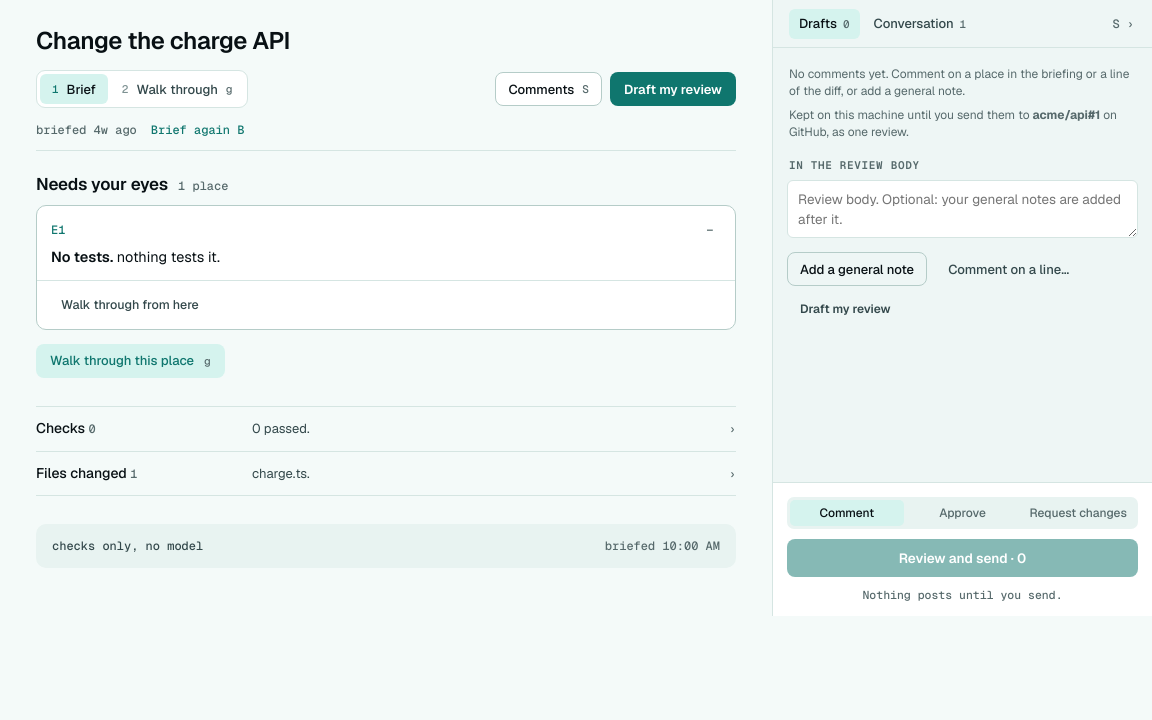
Draft my review › is in the drawer too, and says why when it couldn't draft
Expected: the text "No comments yet" is shown, left=789, top=66, right=1129, bottom=99
Step 1. Click the button "Draft my review" below "In the review body" → [845, 309], box left=787, top=294, right=904, bottom=324
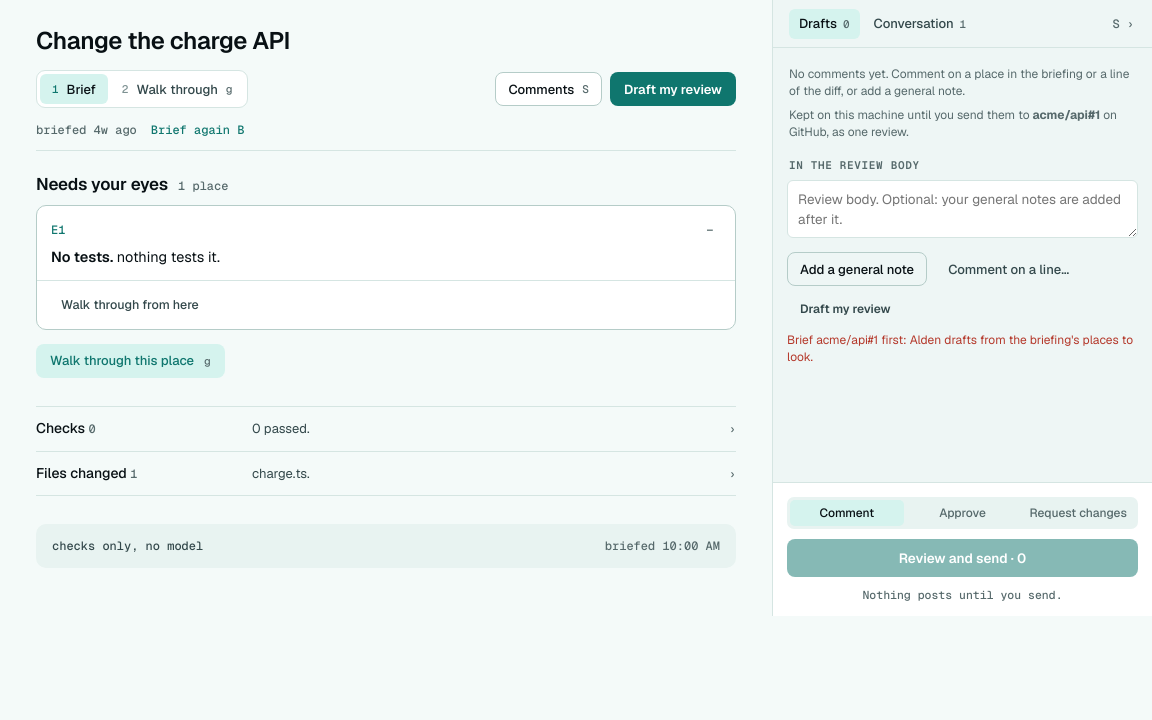
Result: the message "Brief acme/api#1 first: Alden drafts from the briefing's places to look." is shown at left=787, top=332, right=1138, bottom=367
